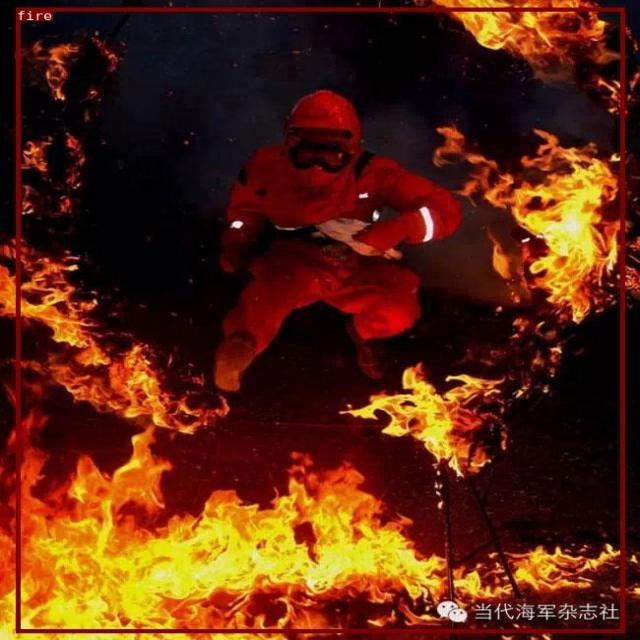fire: (15, 7, 623, 632)
